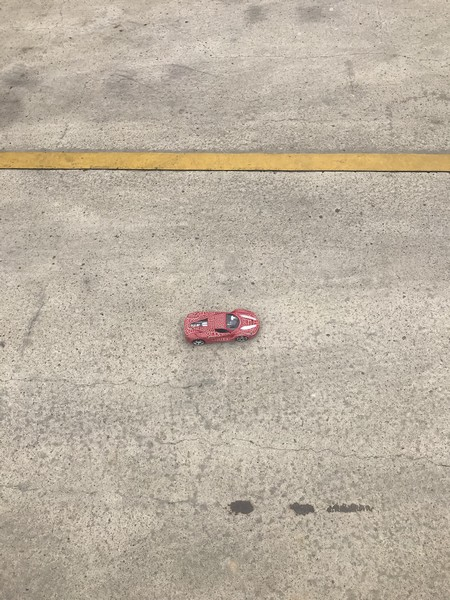RC: (181, 306, 264, 347)
